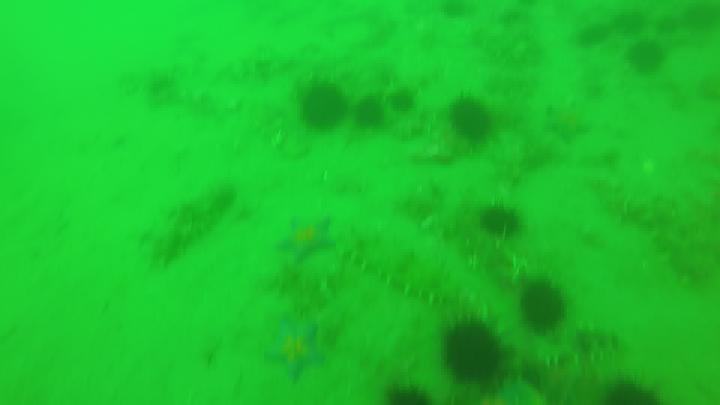echinus: (446, 317, 508, 385), (522, 281, 568, 332), (450, 95, 494, 143), (304, 82, 343, 134), (604, 379, 667, 405), (632, 40, 669, 77), (487, 202, 521, 236), (575, 23, 613, 51), (358, 92, 385, 129), (386, 381, 426, 405)
holothurian: (138, 186, 246, 263), (334, 240, 464, 302), (528, 326, 630, 368)
starfish: (264, 317, 329, 382), (276, 214, 337, 264)
